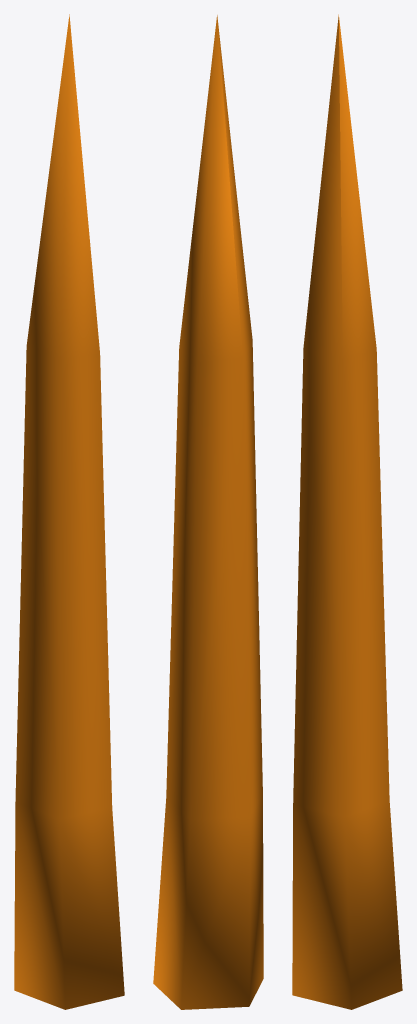
The model's file is halfLog2 1.fbx.
3 renders of one model, left to right at view 1: azimuth 30°, elevation 25°; view 2: azimuth 150°, elevation 25°; view 3: azimuth 330°, elevation 25°, orthographic.
Visible parts, largest first — view 1: Tree.003; view 2: Tree.003; view 3: Tree.003.
Boxes of the visible parts, bbox=[...] form: Tree.003: bbox=[14, 14, 124, 1009]; Tree.003: bbox=[153, 15, 263, 1009]; Tree.003: bbox=[292, 14, 402, 1009].
Size of the model in its own units: 77.88 by 754 by 74.08.
